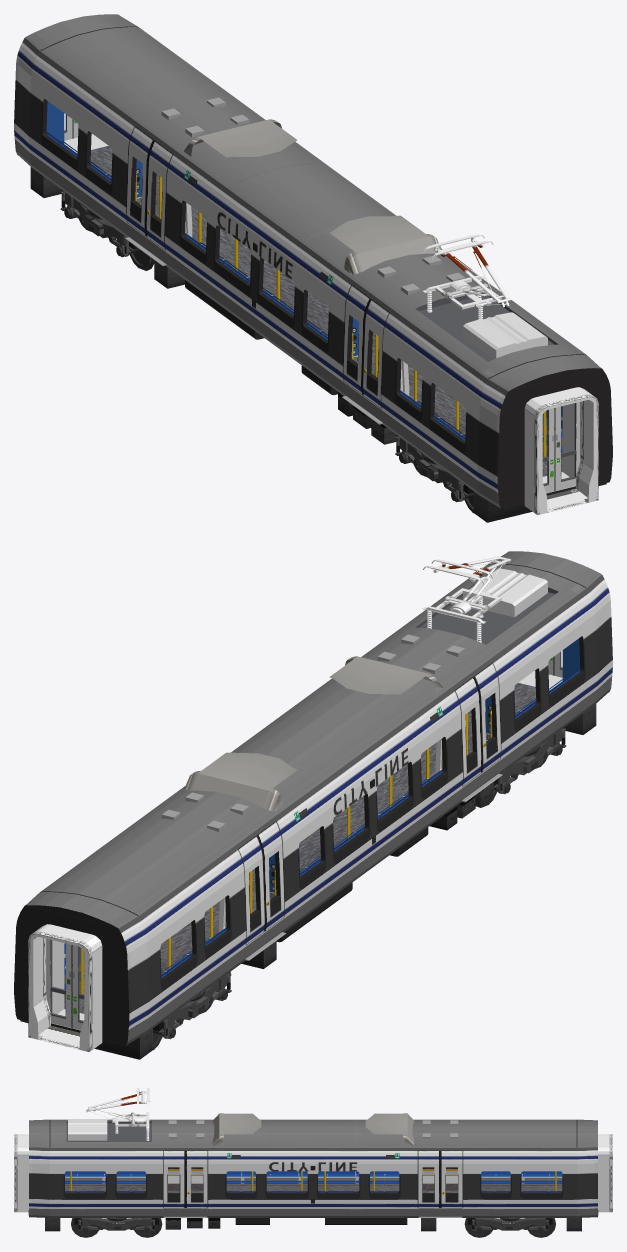
File: module_city_panto_5m.obj
The picture shows the model from 3 angles, top to bottom: view 1: azimuth 30°, elevation 25°; view 2: azimuth 150°, elevation 25°; view 3: azimuth 270°, elevation 25°; orthographic projection. The views are drawn at different scales.
Parts seen in each view (by area): view 1: m_side, m_jibung, m_aircon, m_mak, m_backout, m_floor, m_habu, m_dt71, m_door_RB, m_door_RF, m_panto6m, m_interiors (+4 smaller); view 2: m_side, m_jibung, m_aircon, m_mak, m_backout, m_floor, m_habu, m_door_RB, m_door_RF, m_dt71, m_panto6m, m_interiors (+4 smaller); view 3: m_side, m_jibung, m_oscarchair, m_aircon, m_dt71, m_floor, m_mak, m_habu, m_door_LF, m_door_LB, m_heater, m_panto6m (+3 smaller).
Boxes of the visible parts, <box> form: m_side: <box>14,17,612,508</box>; m_jibung: <box>25,14,601,391</box>; m_aircon: <box>161,97,547,359</box>; m_mak: <box>64,129,598,515</box>; m_backout: <box>501,368,608,507</box>; m_floor: <box>90,146,562,476</box>; m_habu: <box>30,167,606,522</box>; m_dt71: <box>60,190,473,513</box>; m_door_RB: <box>127,142,364,407</box>; m_door_RF: <box>145,156,383,421</box>; m_panto6m: <box>422,234,511,319</box>; m_interiors: <box>64,114,580,493</box>; m_side: <box>14,554,612,1045</box>; m_jibung: <box>25,551,601,928</box>; m_aircon: <box>161,568,547,832</box>; m_mak: <box>28,666,562,1052</box>; m_backout: <box>18,905,125,1044</box>; m_floor: <box>64,683,536,1013</box>; m_habu: <box>20,704,596,1059</box>; m_door_RB: <box>244,692,482,957</box>; m_door_RF: <box>263,679,500,944</box>; m_dt71: <box>153,727,566,1050</box>; m_panto6m: <box>422,556,511,642</box>; m_interiors: <box>46,651,562,1030</box>; m_side: <box>29,1119,597,1217</box>; m_jibung: <box>29,1119,597,1147</box>; m_oscarchair: <box>65,1171,562,1192</box>; m_aircon: <box>68,1113,458,1146</box>; m_dt71: <box>71,1217,555,1237</box>; m_floor: <box>65,1183,562,1192</box>; m_mak: <box>14,1134,612,1212</box>; m_habu: <box>28,1210,598,1231</box>; m_door_LF: <box>163,1160,440,1215</box>; m_door_LB: <box>185,1160,462,1215</box>; m_heater: <box>65,1174,562,1185</box>; m_panto6m: <box>86,1088,150,1140</box>.
Bounding box in the file's own units: 2.88 × 5.06 × 20.53.
27 materials, 27 textured.
